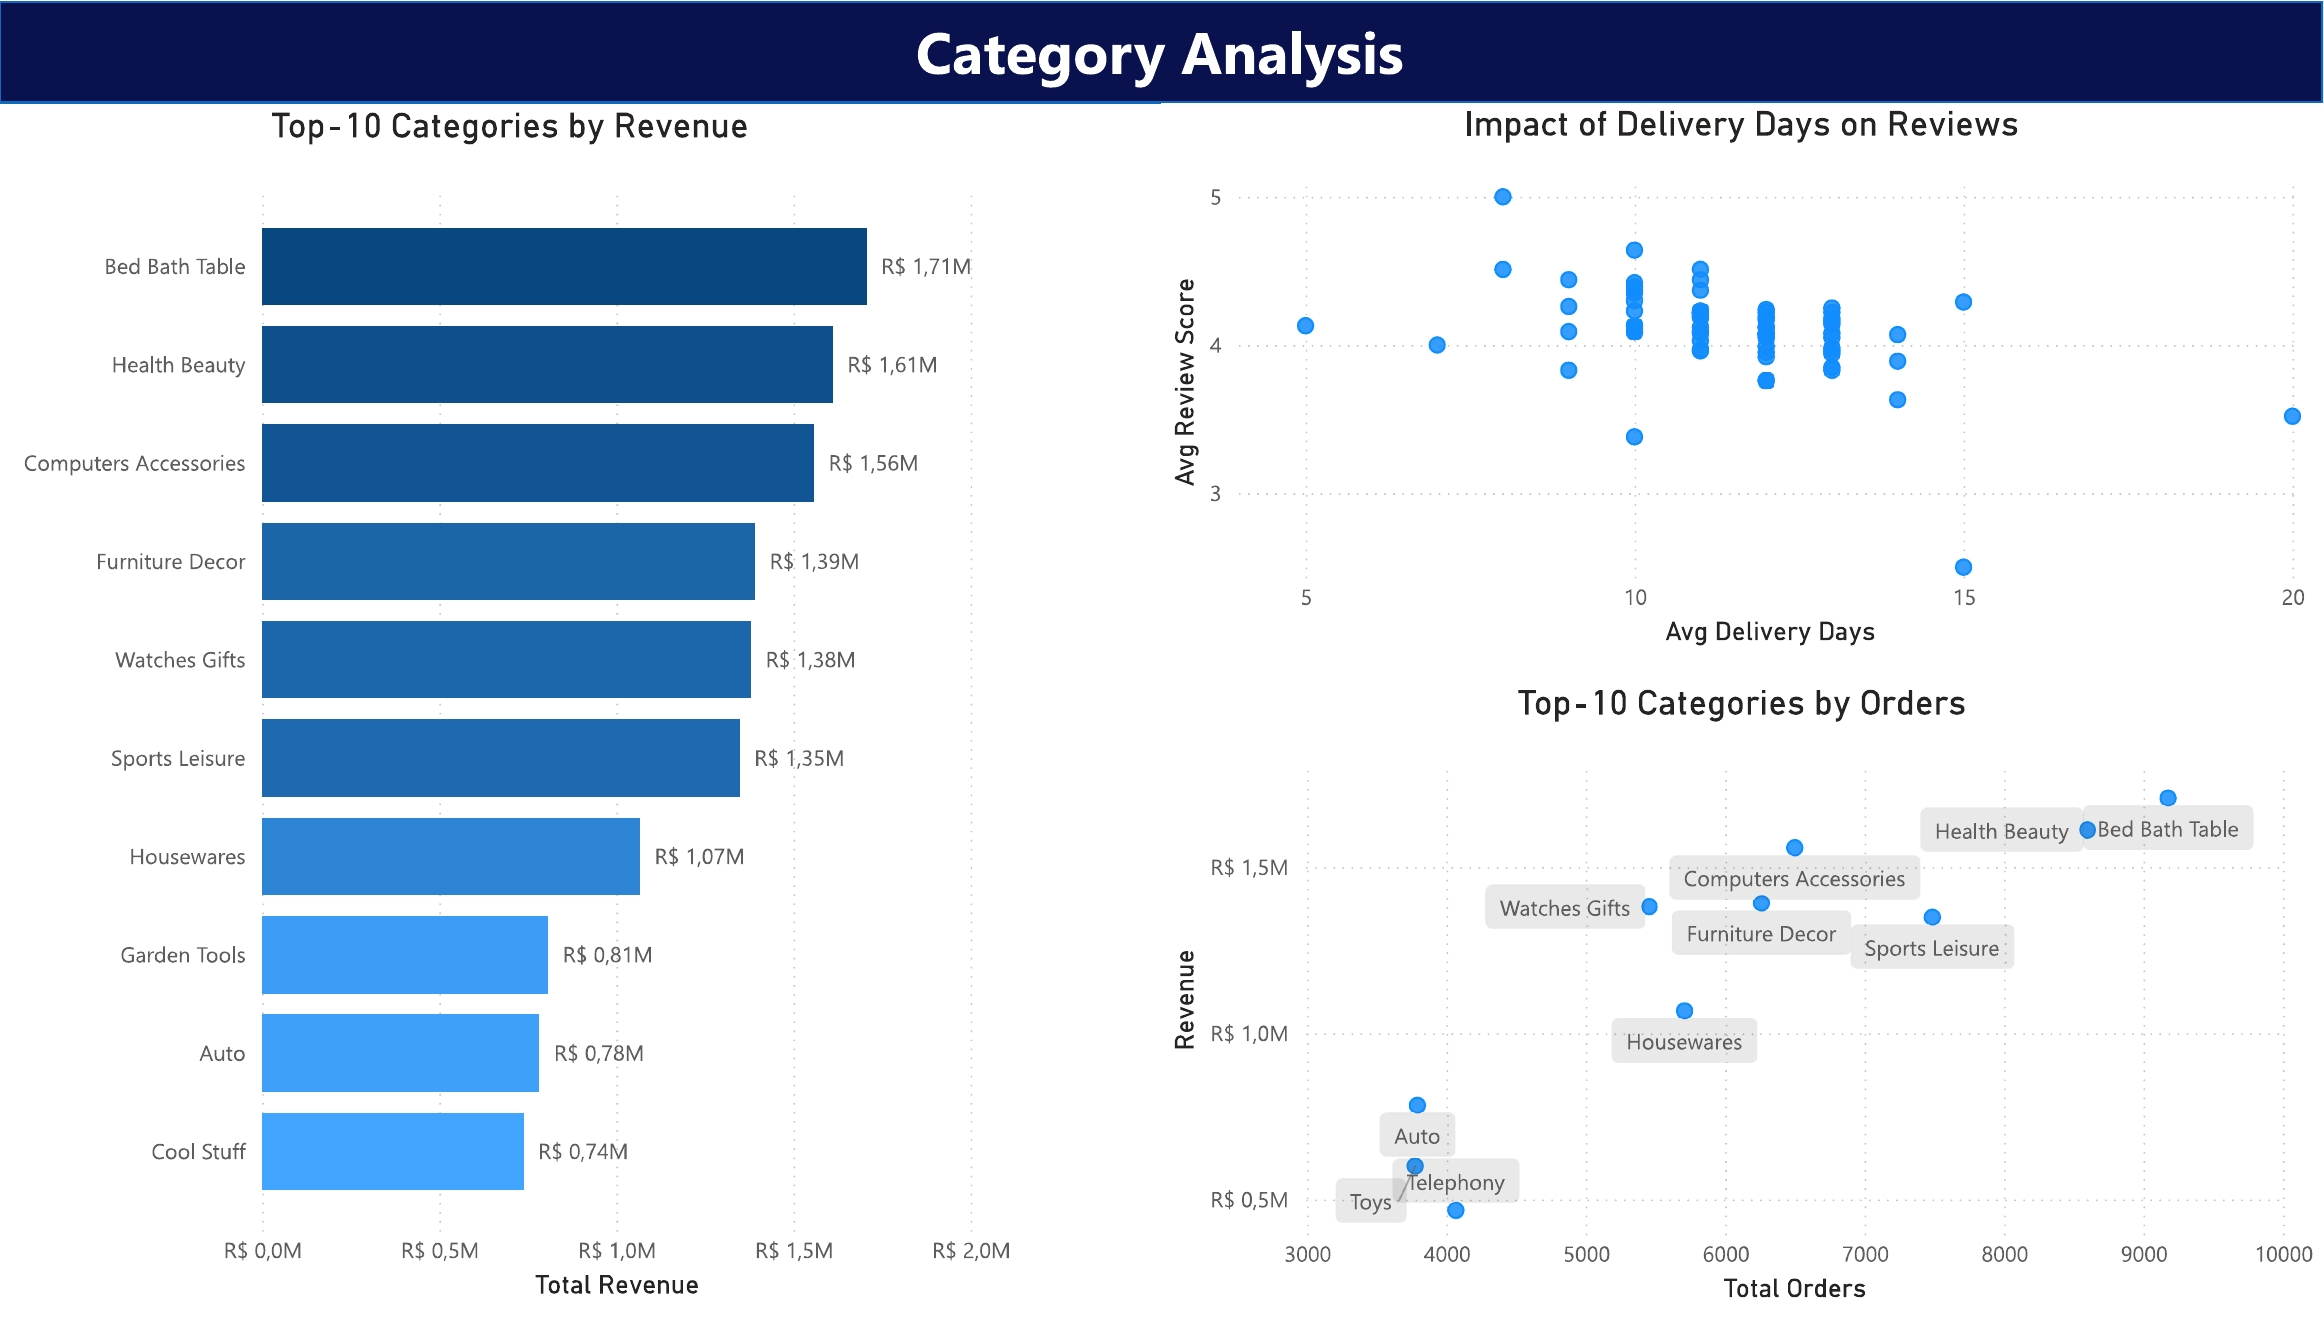

What the dashboard file says about the page in this screenshot:
{"tool":"powerbi","page":{"name":"Page 5","canvas":[1280,720],"ordinal":4},"visuals":[{"type":"shape","box":[0,0,1280,55.9],"z":0},{"type":"scatterChart","title":"Top-10 Categories by Orders","fields":{"X":["category_performance_scorecard.total_orders"],"Y":["category_performance_scorecard.total_revenue"],"Category":["category_performance_scorecard.product_category_name_english_clean"]},"box":[639.6,375.4,640.6,346.6],"z":1000},{"type":"scatterChart","title":"Impact of Delivery Days on Reviews","fields":{"X":["category_performance_scorecard.avg_delivery_days"],"Y":["category_performance_scorecard.avg_review_score"],"Category":["category_performance_scorecard.product_category_name_english_clean"]},"box":[640,56.3,640,303.6],"z":2000},{"type":"clusteredBarChart","title":"Top-10 Categories by Revenue","fields":{"Y":["Sum(category_performance_scorecard.total_revenue)"],"Category":["category_performance_scorecard.product_category_name_english_clean"]},"box":[0,56.6,563.1,663.4],"z":3000},{"type":"textbox","box":[499.6,0,282.1,55.9],"z":4000}]}

Visuals, with their boxes in screenshot pixels (x1, y1, x2, y2), scaled from the page's 1280x720 canvas onto the 2324x1338 screenshot:
shape: x1=0, y1=0, x2=2323, y2=104
"Top-10 Categories by Orders" scatterChart: x1=1161, y1=698, x2=2323, y2=1337
"Impact of Delivery Days on Reviews" scatterChart: x1=1162, y1=105, x2=2323, y2=669
"Top-10 Categories by Revenue" clusteredBarChart: x1=0, y1=105, x2=1022, y2=1337
textbox: x1=907, y1=0, x2=1419, y2=104
